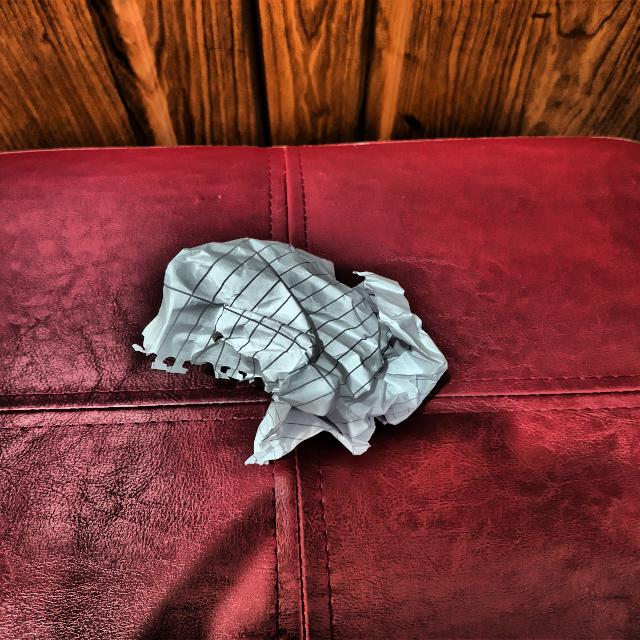Paper: (143, 235, 451, 458)
